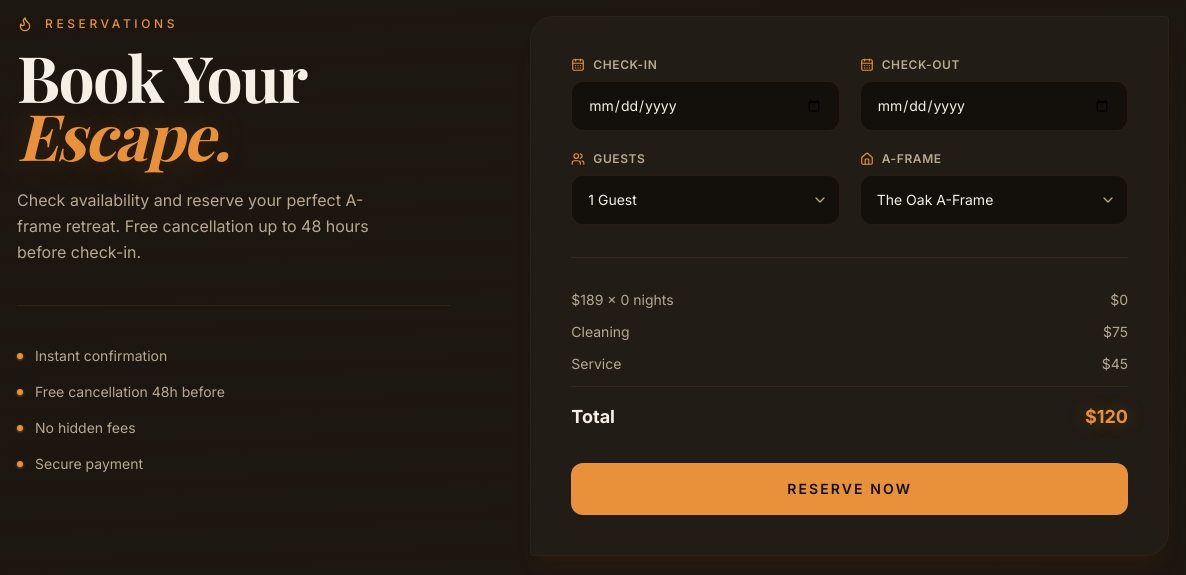
it: Booking Form Interaction › updates total when dates change
The image size is (1186, 575).
Type "2025-03-15" into the date field labelled "Check-in" at (705, 106), box [571, 81, 840, 131]
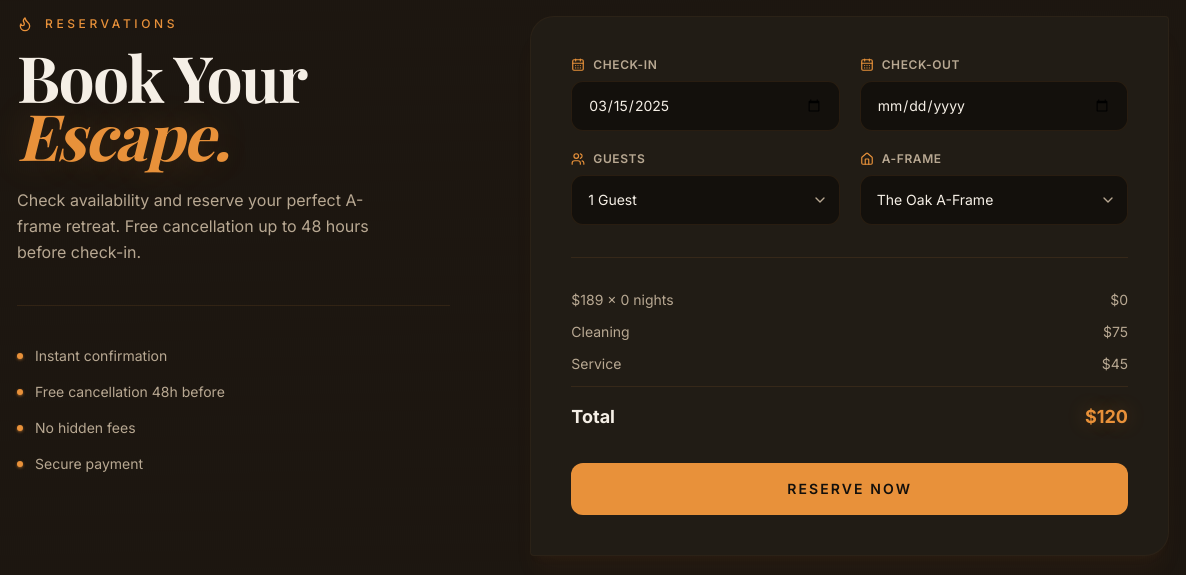
Type "2025-03-18" into the date field labelled "Check-out" at (994, 106), box [860, 81, 1128, 131]
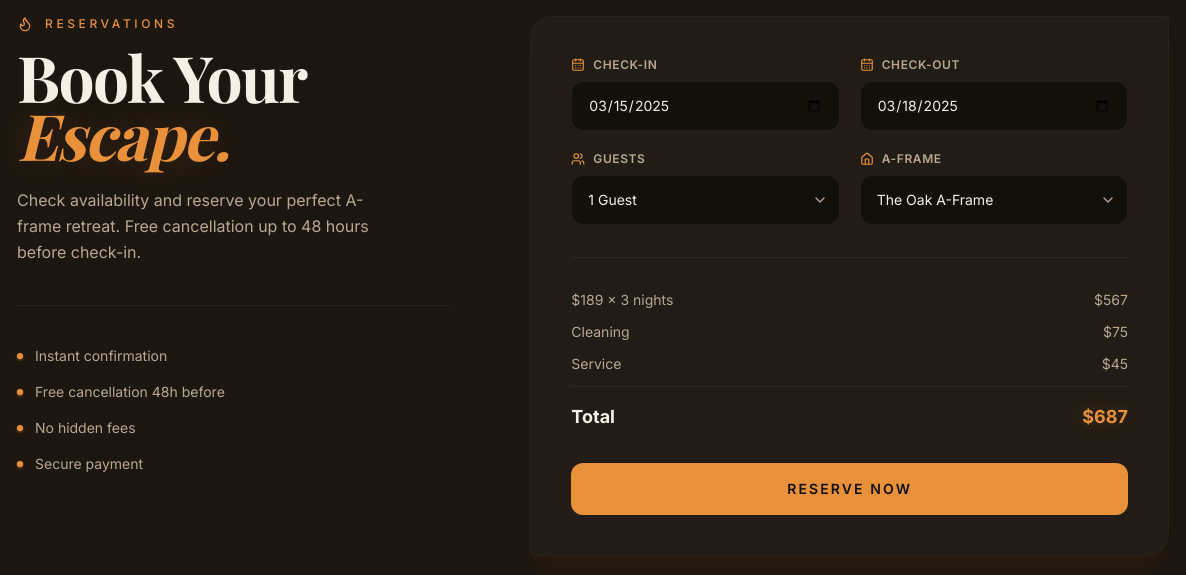
Expected: the text "$189 × 3 nights" is shown, [571, 290, 673, 310]
